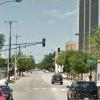Traffic light: (33, 34, 53, 50)
